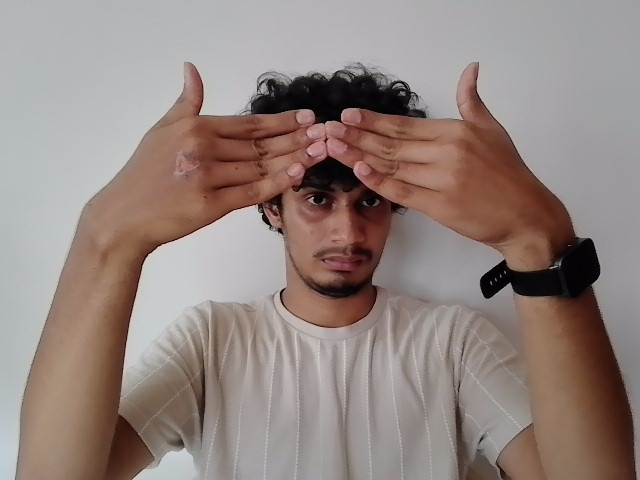family: (83, 60, 550, 260)
